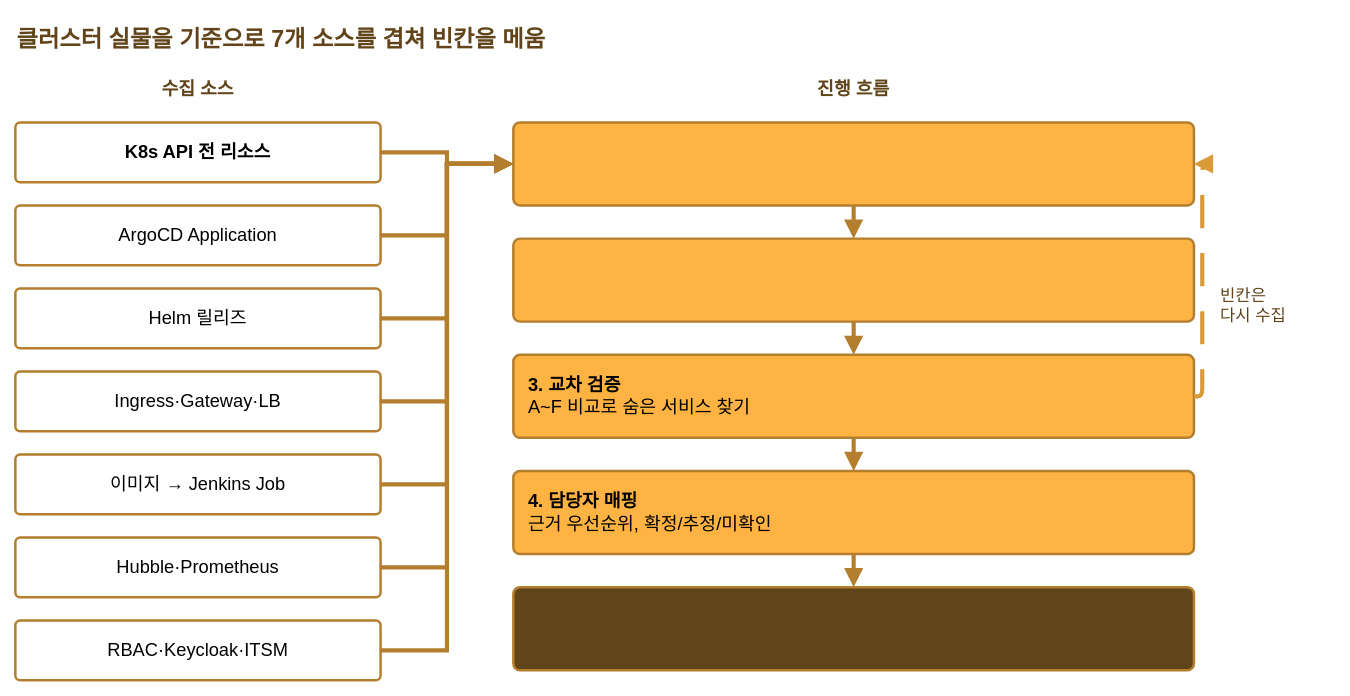
The diagram is 1350 pixels wide and 696 high, and some of its shapes have lost their labels. The shapes that lost their labels are listed below. From the top down, each one's box as (x1, y1, x2, y2) in pixels, then its label:
(512, 121, 1195, 206): 1. 수집 읽기 전용 8단계, 1주 간격 스냅샷 2회
(512, 237, 1195, 322): 2. 병합 키 = 네임스페이스/kind/이름
(512, 586, 1195, 671): 5. 본인 확인 → 확정 인벤토리 팀별 회람, 미확인은 별도 처리
